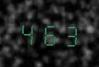four: (18, 18, 37, 46)
six: (39, 19, 58, 47)
three: (59, 20, 78, 47)
